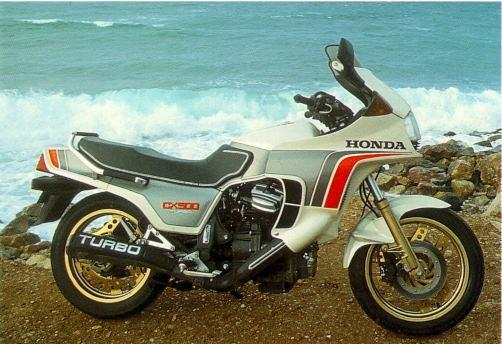Motorcycle: (17, 29, 494, 343)
